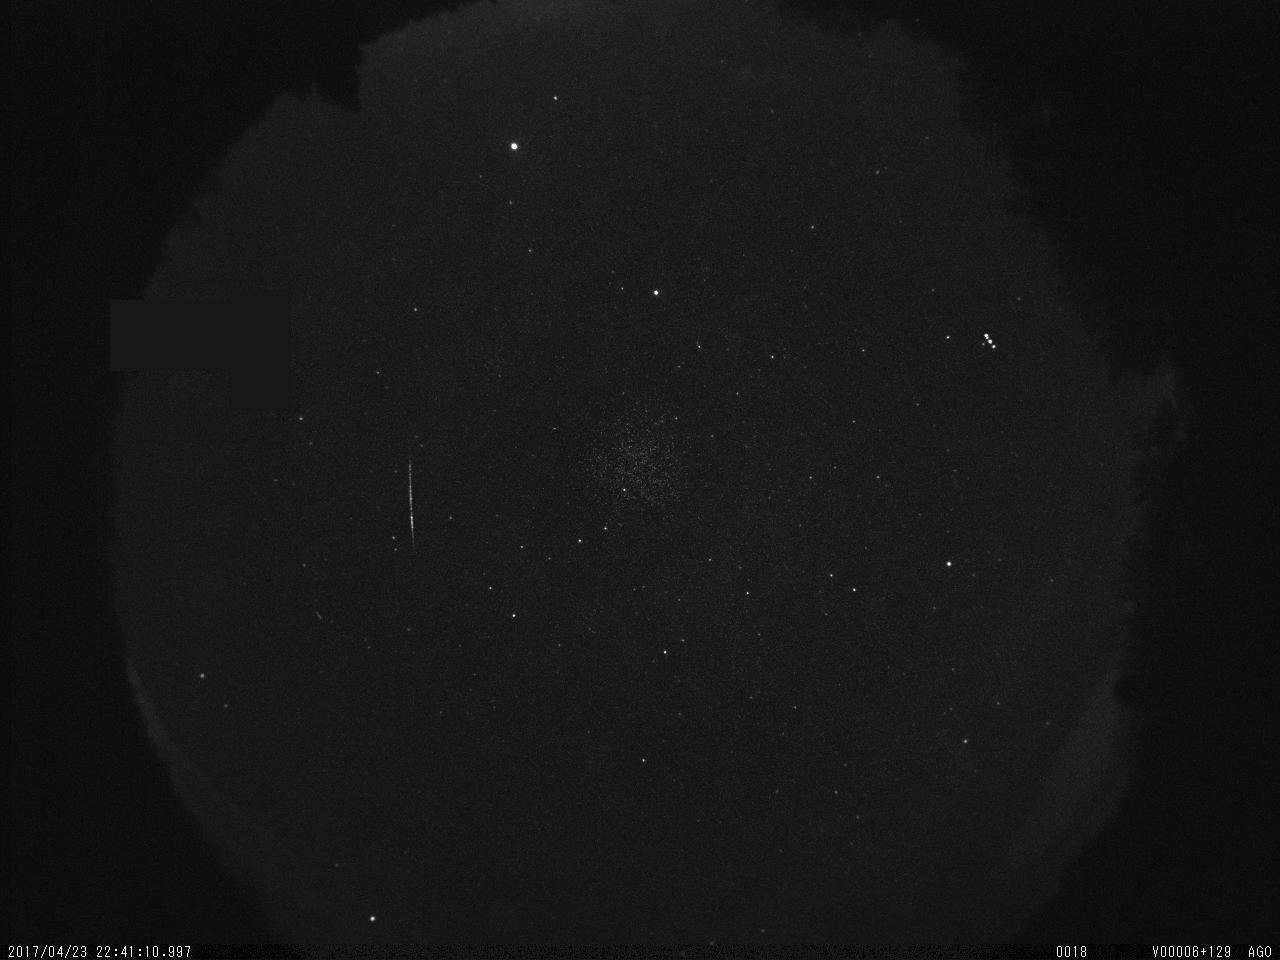meteor: (396, 447, 429, 553)
